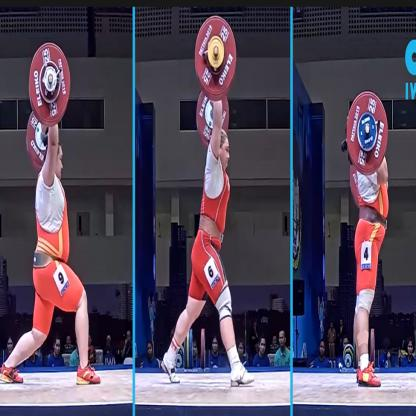Barbell: (341, 83, 391, 179), (192, 10, 241, 102), (26, 40, 73, 128)
